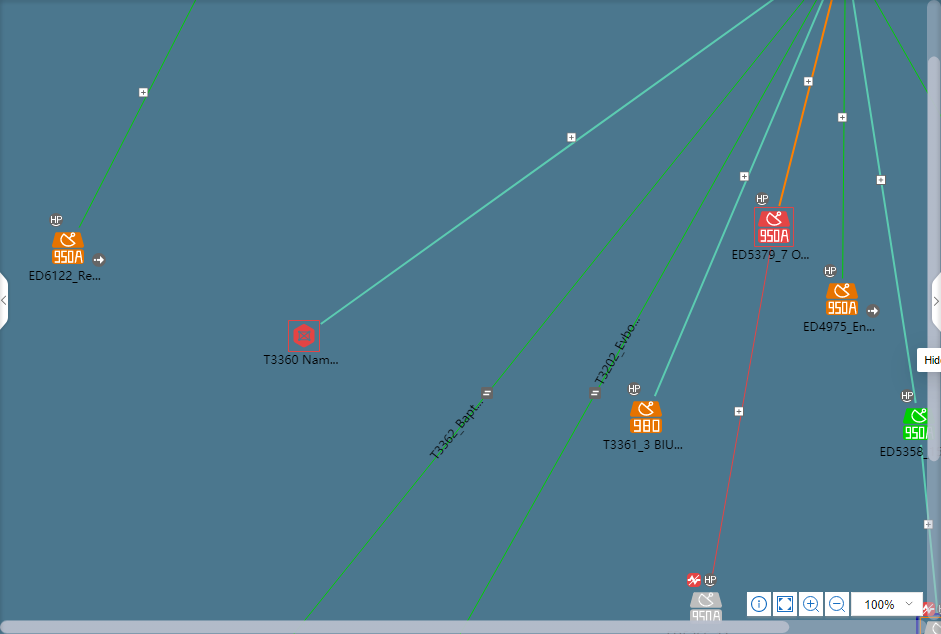Link_Blue: (321, 0, 775, 326), (653, 0, 825, 397), (851, 0, 917, 404)
Link_Green: (301, 0, 806, 621), (77, 0, 199, 231), (873, 0, 928, 93), (841, 0, 846, 280)
Link_Orange: (777, 0, 833, 207)
Link_Red: (710, 249, 772, 575)
RTN_Gray: (690, 591, 722, 622)
RTN_Green: (902, 409, 927, 441)
RTN_Orange: (52, 232, 83, 264), (826, 283, 857, 315), (630, 402, 661, 433)
RTN_Red: (754, 208, 792, 247)
